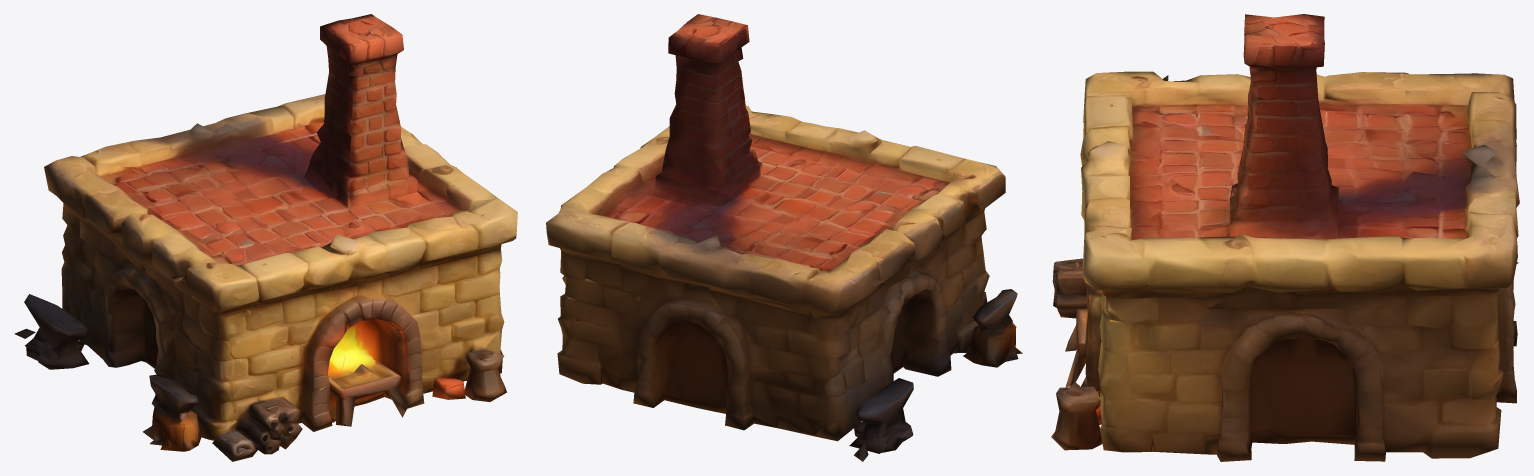
The model's file is foundry.glb.
3 views of the same model, side by side, from view 1: azimuth 30°, elevation 25°; view 2: azimuth 150°, elevation 25°; view 3: azimuth 270°, elevation 25° (orthographic). The views are drawn at different scales.
Parts seen in each view (by area): view 1: tripo_node_e9b1cde8-6422-4fcf-8c9d-54129f0ec9d2; view 2: tripo_node_e9b1cde8-6422-4fcf-8c9d-54129f0ec9d2; view 3: tripo_node_e9b1cde8-6422-4fcf-8c9d-54129f0ec9d2.
Part boxes in pixels (x1,y1,x2,y2): tripo_node_e9b1cde8-6422-4fcf-8c9d-54129f0ec9d2: [14, 14, 517, 461]; tripo_node_e9b1cde8-6422-4fcf-8c9d-54129f0ec9d2: [546, 14, 1022, 461]; tripo_node_e9b1cde8-6422-4fcf-8c9d-54129f0ec9d2: [1051, 14, 1519, 461].
Size of the model in its own units: 1 by 0.863 by 0.9325.
Materials: 1 (1 with a texture image).
